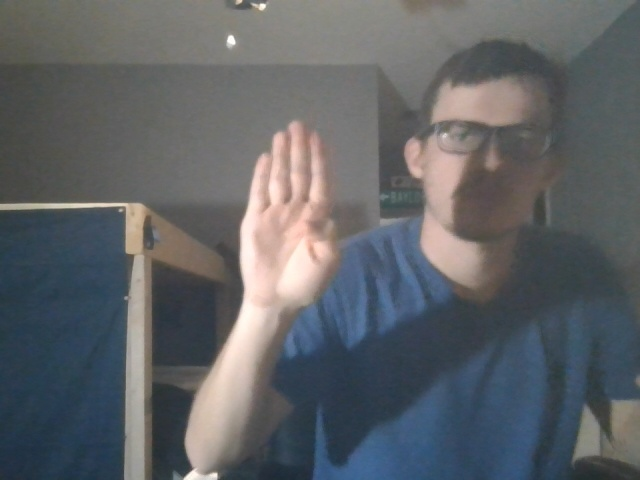B: (225, 114, 357, 319)
